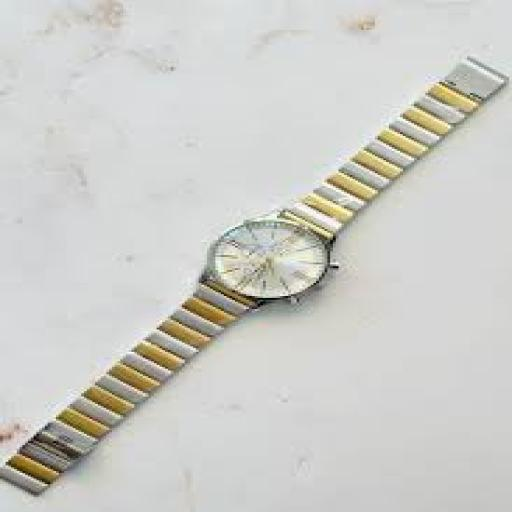KolSaati: (3, 56, 509, 496)
